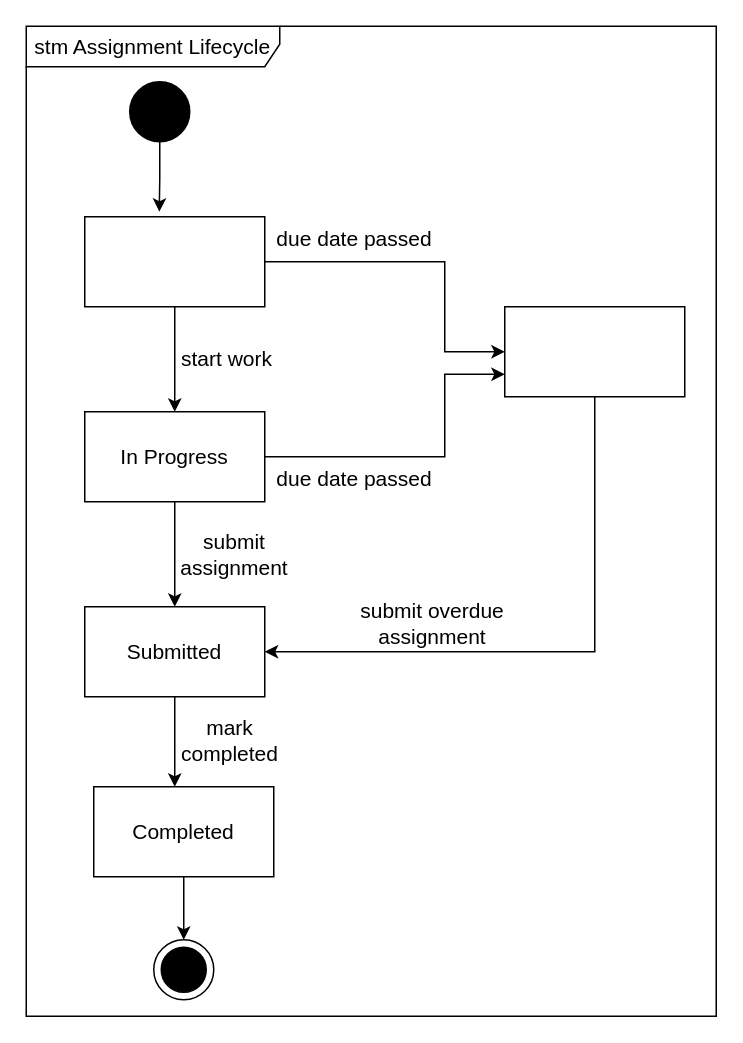
The diagram is 743 pixels wide and 1043 high, and some of its shapes have lost their labels. The box of each missing label's shape, as (x1, y1, x2, y2) in pixels:
Not Started: (83, 215, 265, 307)
Overdue: (503, 305, 685, 397)
